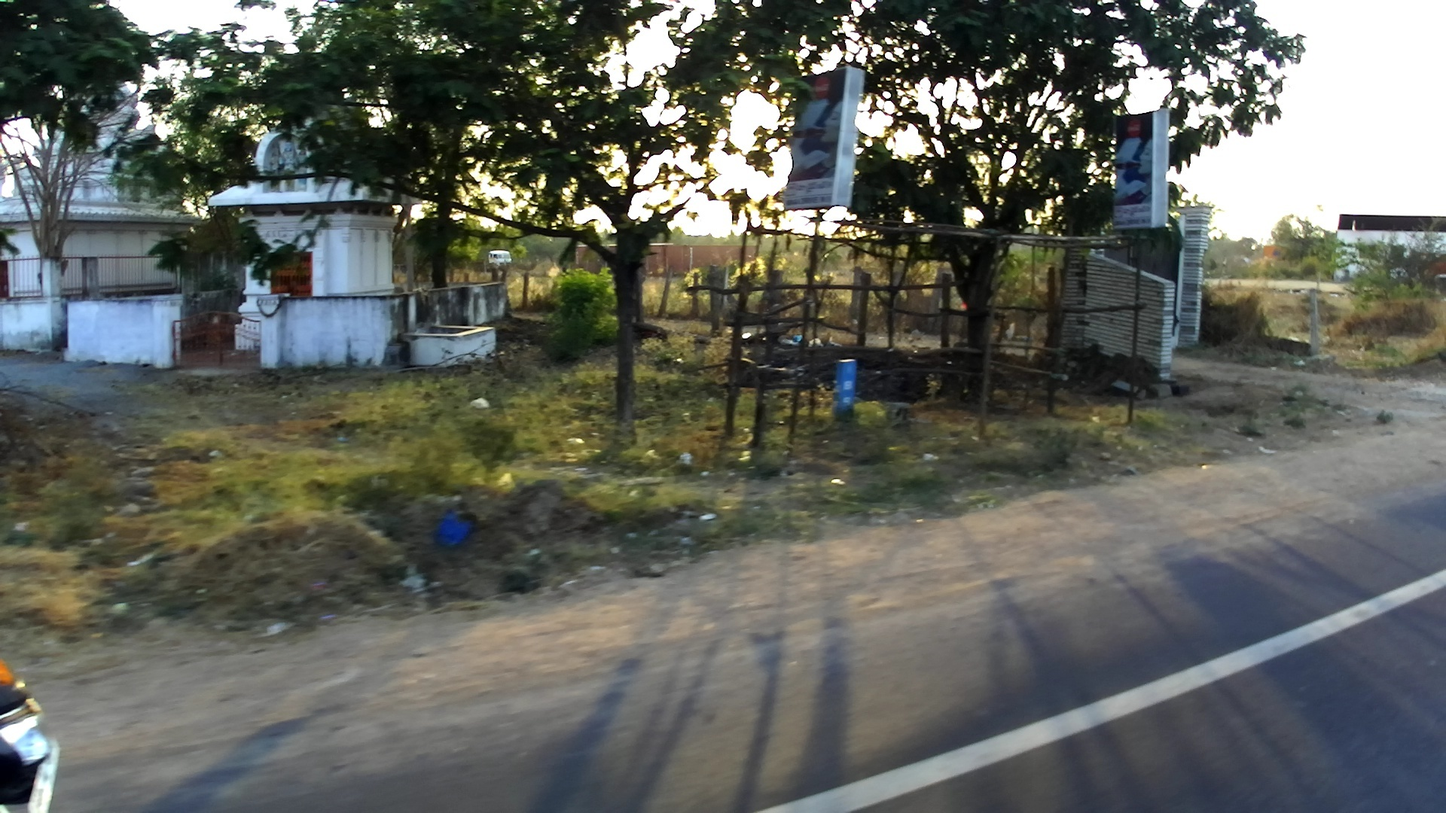car: (484, 248, 514, 266)
motorcycle: (2, 653, 59, 811)
